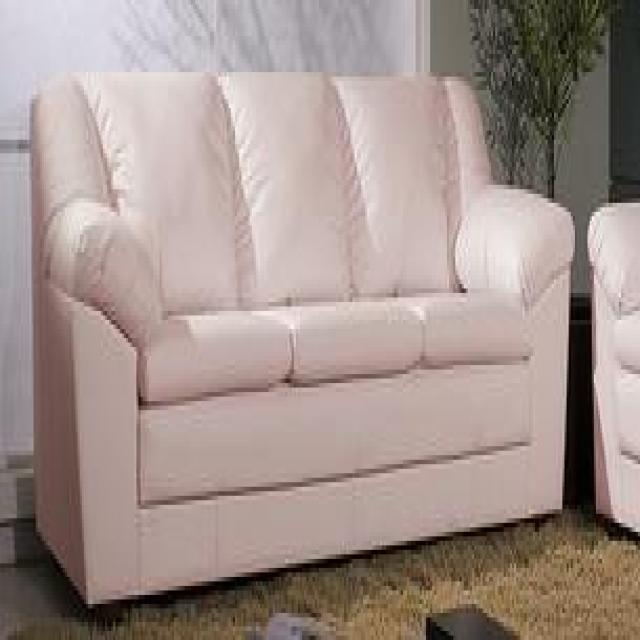sofa: (29, 63, 575, 609)
